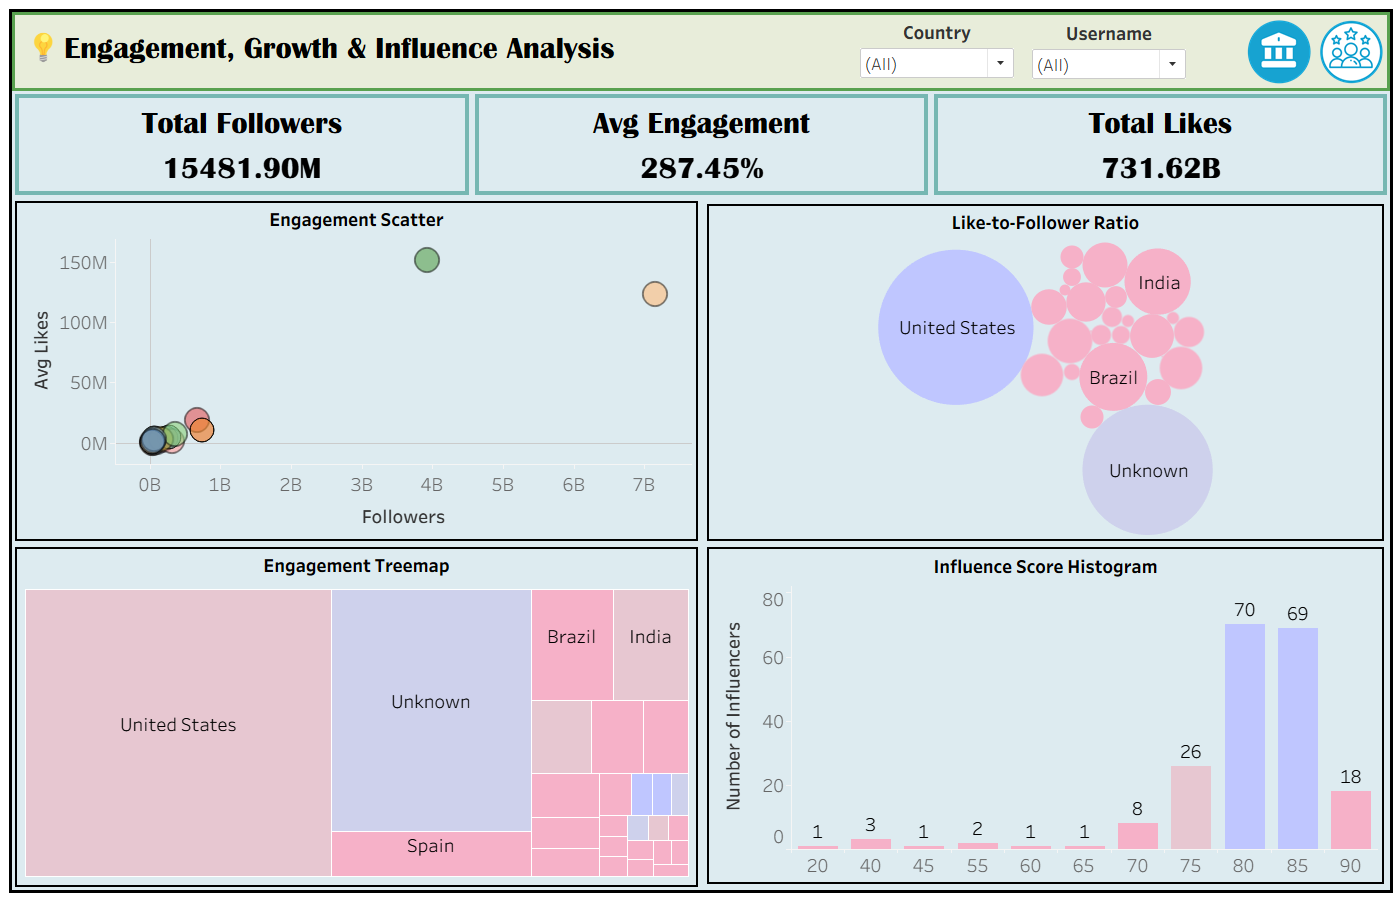

What the dashboard file says about the page in this screenshot:
{"tool":"tableau","page":{"name":"Engagement, Growth & Influence Analysis","canvas":[1400,900],"ordinal":0},"visuals":[{"type":"text","box":[14,14,1227,73]},{"type":"dashboard-object","box":[1241,14,73,73]},{"type":"dashboard-object","box":[1314,14,72,73]},{"type":"filter","title":"Engagement Scatter","param":"[federated.03d78ib1kz650z1doxtaf1as8ka9].[Action (Country)]","box":[856,18,160,62]},{"type":"filter","title":"Engagement Scatter","param":"[federated.03d78ib1kz650z1doxtaf1as8ka9].[Action (Username)]","box":[1028,19,160,62]},{"type":"worksheet","title":"KPI - Total Followers","mark":"Automatic","box":[18,97,446,93]},{"type":"worksheet","title":"KPI - Avg Engagement","mark":"Automatic","box":[478,97,445,93]},{"type":"worksheet","title":"KPI - Total Likes","mark":"Automatic","box":[937,97,445,93]},{"type":"text","box":[16,202,679,32]},{"type":"text","box":[708,205,673,32]},{"type":"worksheet","title":"Engagement Scatter","mark":"Circle","rows":["avg_likes"],"cols":["followers"],"box":[16,234,679,304]},{"type":"worksheet","title":"Like-to-Follower Ratio","mark":"Circle","box":[708,237,673,301]},{"type":"text","box":[16,548,679,32]},{"type":"text","box":[708,548,673,33]},{"type":"worksheet","title":"Engagement Treemap","mark":"Automatic","box":[16,580,679,304]},{"type":"worksheet","title":"Influence Score Histogram","mark":"Bar","rows":["username"],"cols":["Influence Score (bin)"],"box":[708,581,673,300]}]}

Visuals, with their boxes in screenshot pixels (x1, y1, x2, y2), scaled from the page's 1400x900 canvas onto the 1400x900 screenshot:
text: pyautogui.locateOnScreen(14, 14, 1241, 87)
dashboard-object: pyautogui.locateOnScreen(1241, 14, 1314, 87)
dashboard-object: pyautogui.locateOnScreen(1314, 14, 1386, 87)
"Engagement Scatter" filter: pyautogui.locateOnScreen(856, 18, 1016, 80)
"Engagement Scatter" filter: pyautogui.locateOnScreen(1028, 19, 1188, 81)
"KPI - Total Followers" worksheet: pyautogui.locateOnScreen(18, 97, 464, 190)
"KPI - Avg Engagement" worksheet: pyautogui.locateOnScreen(478, 97, 923, 190)
"KPI - Total Likes" worksheet: pyautogui.locateOnScreen(937, 97, 1382, 190)
text: pyautogui.locateOnScreen(16, 202, 695, 234)
text: pyautogui.locateOnScreen(708, 205, 1381, 237)
"Engagement Scatter" worksheet (Circle marks): pyautogui.locateOnScreen(16, 234, 695, 538)
"Like-to-Follower Ratio" worksheet (Circle marks): pyautogui.locateOnScreen(708, 237, 1381, 538)
text: pyautogui.locateOnScreen(16, 548, 695, 580)
text: pyautogui.locateOnScreen(708, 548, 1381, 581)
"Engagement Treemap" worksheet: pyautogui.locateOnScreen(16, 580, 695, 884)
"Influence Score Histogram" worksheet (Bar marks): pyautogui.locateOnScreen(708, 581, 1381, 881)
